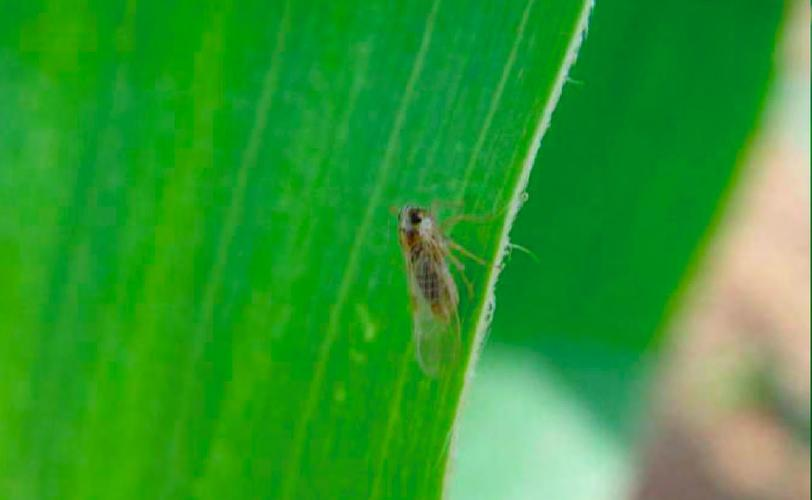Delphacidae: (388, 196, 498, 376)
